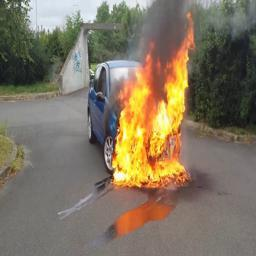fire: (117, 14, 193, 181)
